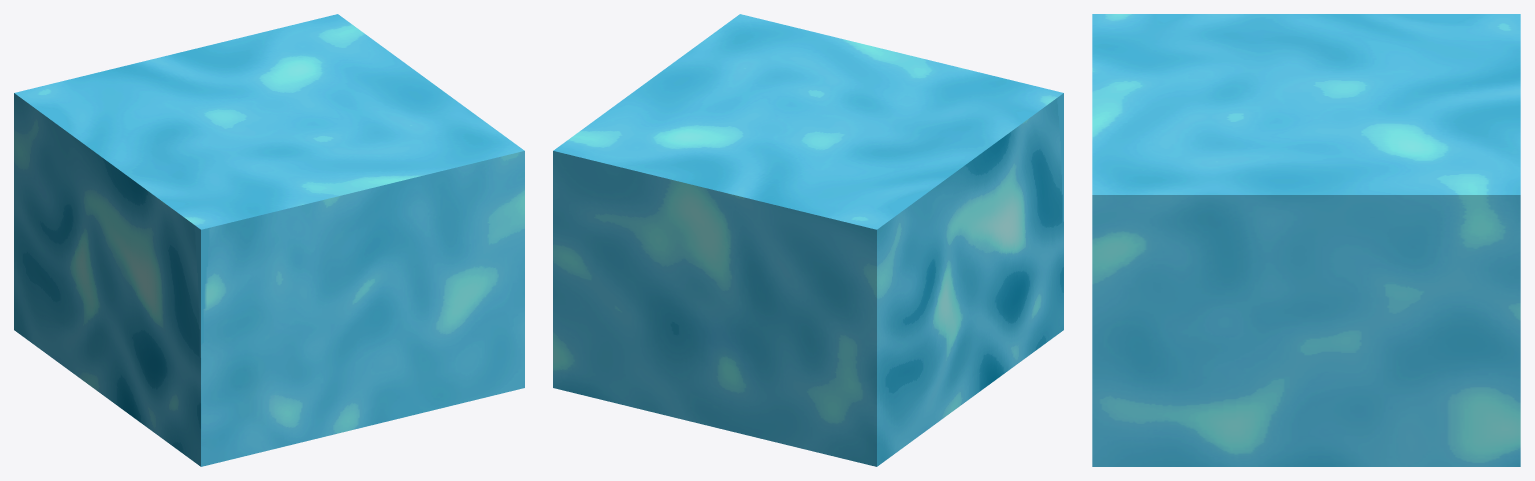
Rendered from nwfgwaterbase.glb.
The picture shows the model from 3 angles, left to right: view 1: azimuth 30°, elevation 25°; view 2: azimuth 150°, elevation 25°; view 3: azimuth 270°, elevation 25°; orthographic projection. The views are drawn at different scales.
Parts seen in each view (by area): view 1: Cube; view 2: Cube; view 3: Cube.
Part boxes in pixels (x1=…): Cube: x1=14, y1=14, x2=524, y2=466; Cube: x1=553, y1=14, x2=1063, y2=466; Cube: x1=1092, y1=14, x2=1520, y2=466.
Size of the model in its own units: 2 by 1.4 by 2.
Materials: 1 (1 with a texture image).
